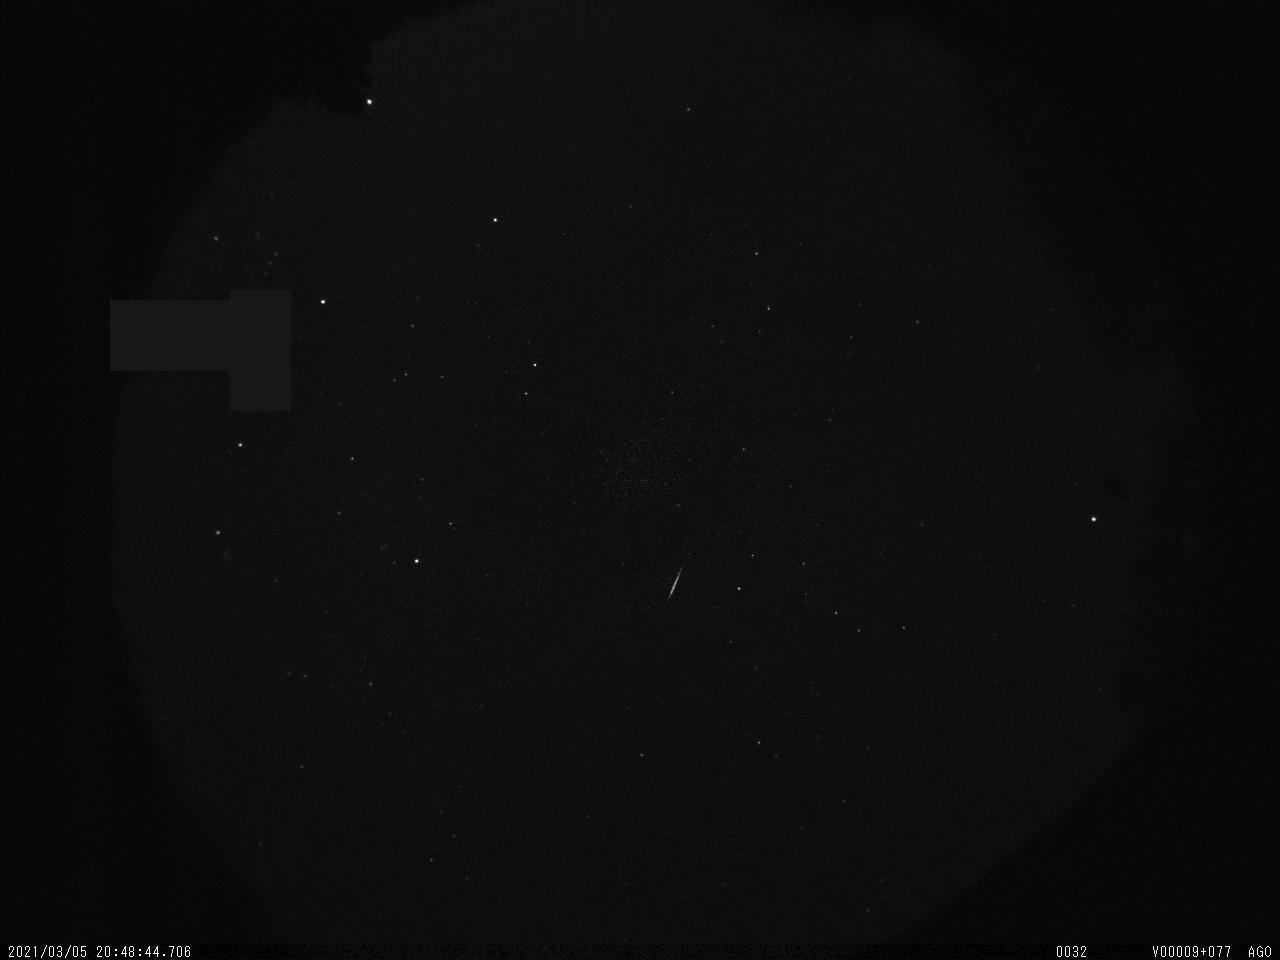Meteor: (664, 562, 684, 602)
